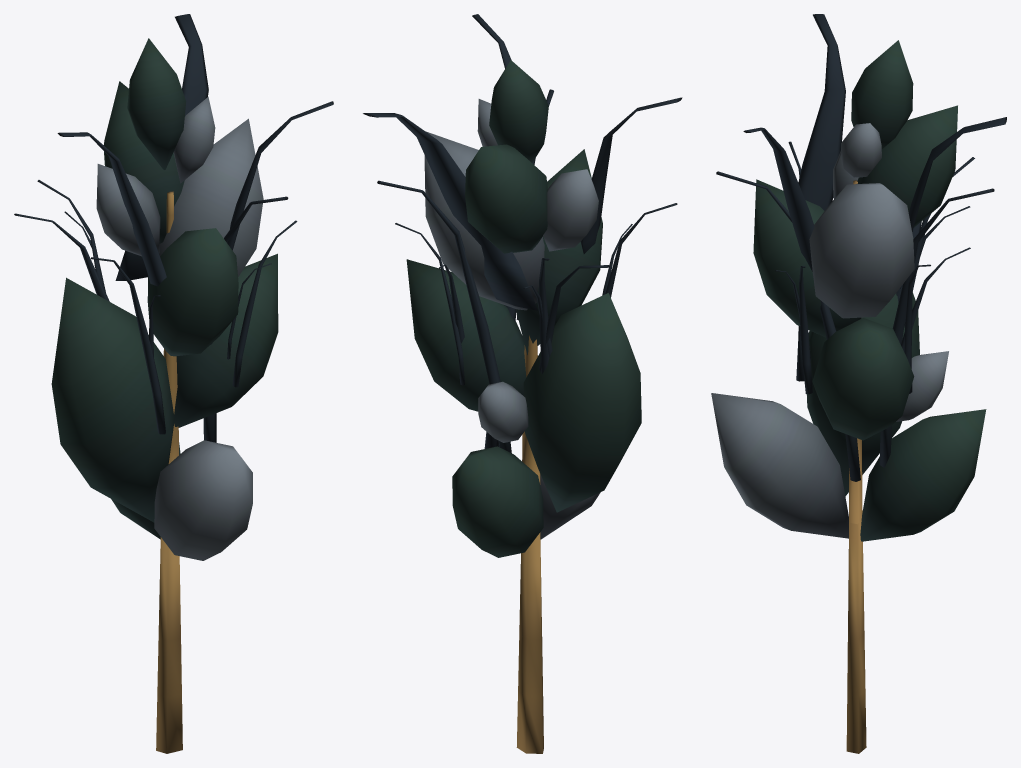
Rendered from Burned_grain.fbx.
3 views of the same model, side by side, from view 1: azimuth 30°, elevation 25°; view 2: azimuth 150°, elevation 25°; view 3: azimuth 270°, elevation 25° (orthographic).
Parts seen in each view (by area): view 1: Burned Grain; view 2: Burned Grain; view 3: Burned Grain.
Part boxes in pixels (x1,y1,x2,y2): Burned Grain: (14, 14, 333, 753); Burned Grain: (363, 14, 682, 753); Burned Grain: (711, 14, 1006, 753).
Bounding box in the file's own units: 1.57 × 4.28 × 1.62.
